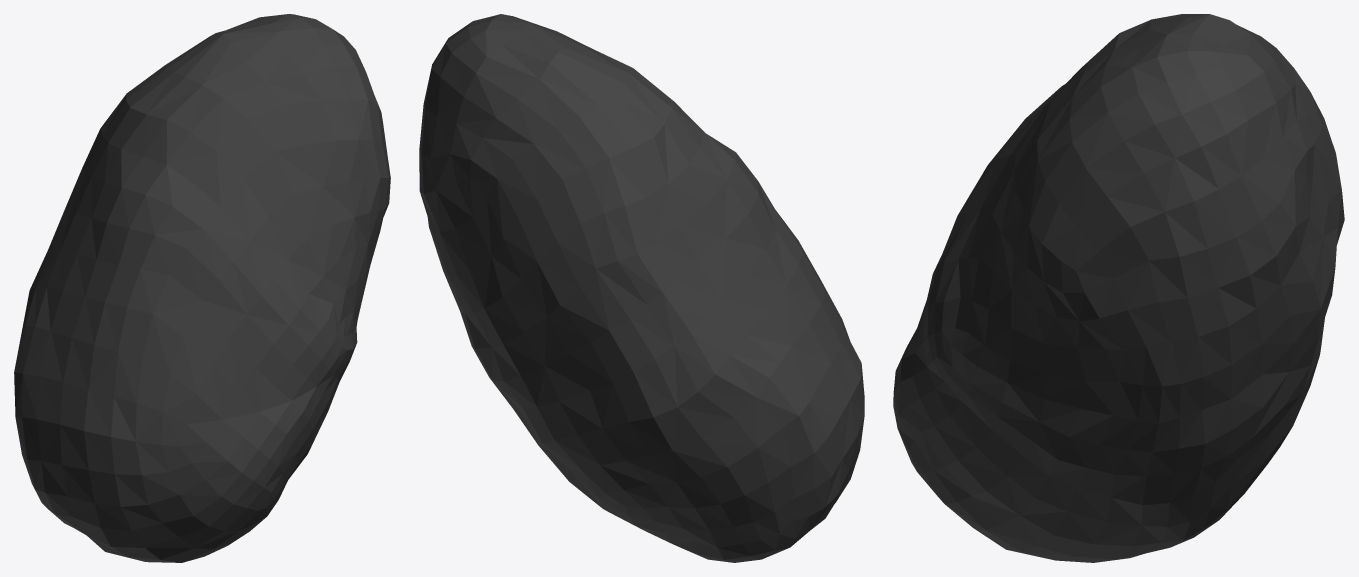
File: dorsal_sesamoid_V_L.glb
The picture shows the model from 3 angles, left to right: view 1: azimuth 30°, elevation 25°; view 2: azimuth 150°, elevation 25°; view 3: azimuth 270°, elevation 25°; orthographic projection. The views are drawn at different scales.
Visible parts, largest first — view 1: dorsal_sesamoid_V_L; view 2: dorsal_sesamoid_V_L; view 3: dorsal_sesamoid_V_L.
Boxes of the visible parts, x1,y1,x2,y2 form: dorsal_sesamoid_V_L: [14, 14, 390, 562]; dorsal_sesamoid_V_L: [419, 14, 864, 562]; dorsal_sesamoid_V_L: [893, 14, 1344, 562].
Size of the model in its own units: 0.00506 by 0.00626 by 0.00419.
1 material, 1 textured.
